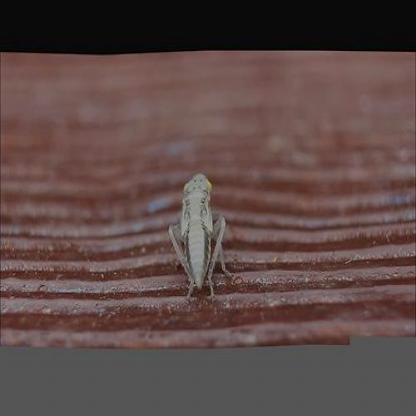green-leafhopper: (170, 168, 235, 300)
